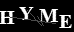E: (57, 14, 72, 29)
H: (1, 9, 15, 25)
M: (37, 8, 59, 24)
Y: (17, 6, 34, 21)
